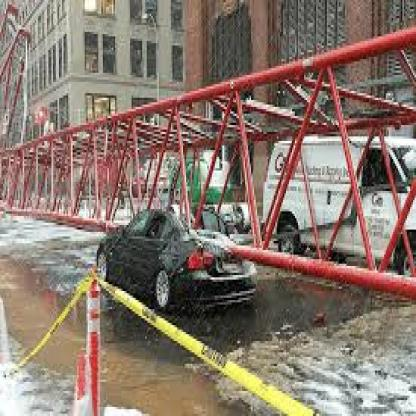accident: (92, 204, 269, 323)
